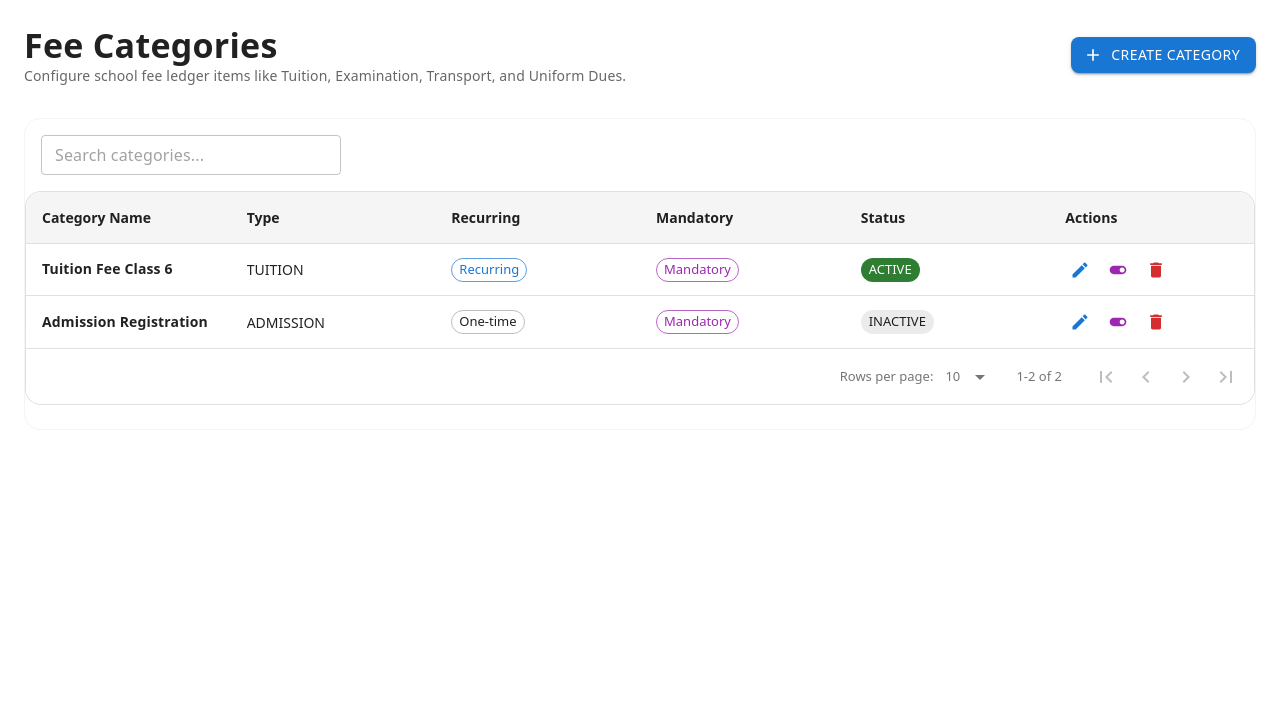
Test: FeeCategories Page Component › opens the Create Category dialog when clicking the create button
This screenshot has width=1280, height=720.
What coordinates should you click on to do the following:
click the button "Create Category"
I would click on:
 (1164, 55)
Its box is [1071,37,1256,73].
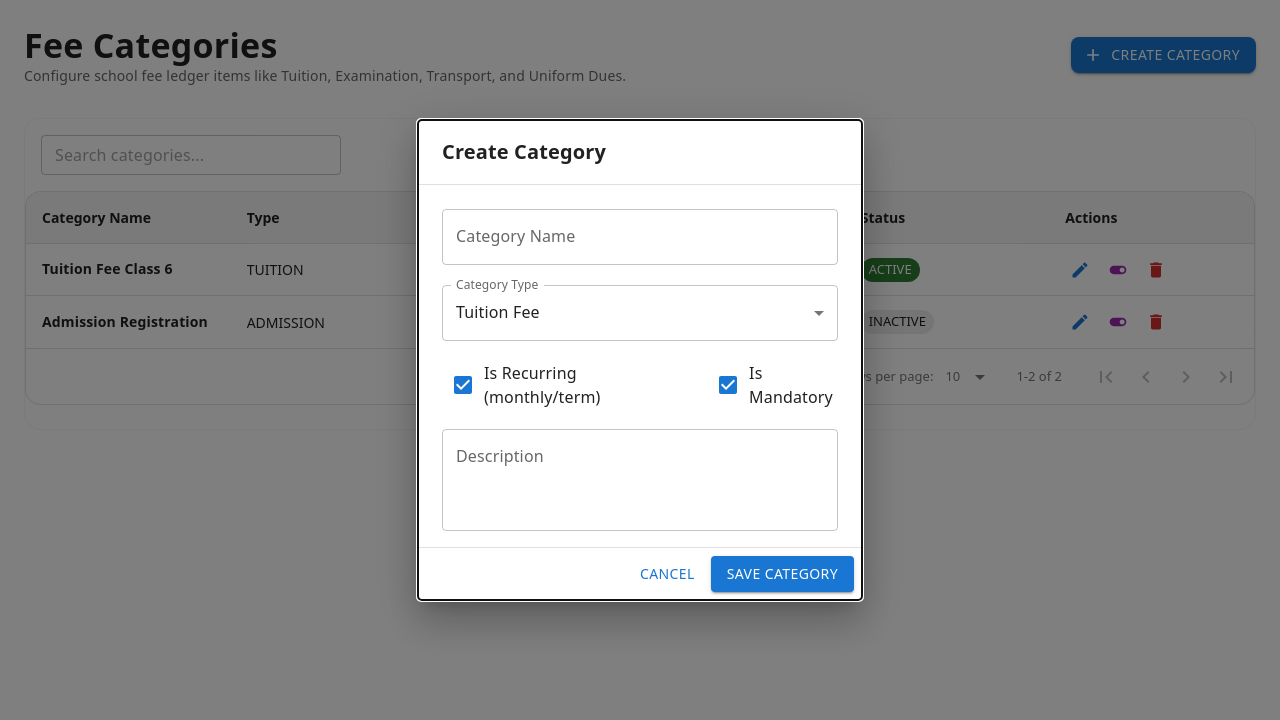
Expected: the heading "Create Category" is shown, [442,138,606,165]
